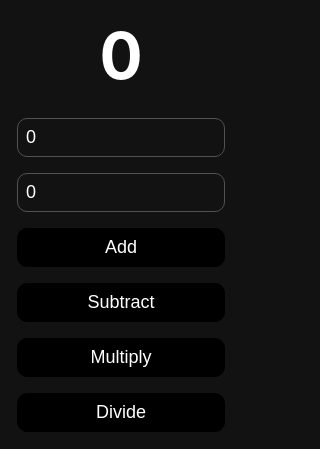
Test: Navigation › should allow inputs to calculate
Step 1. Type "1" into the number field with test id "num1" → {"x": 121, "y": 138}, box [17,118,225,157]
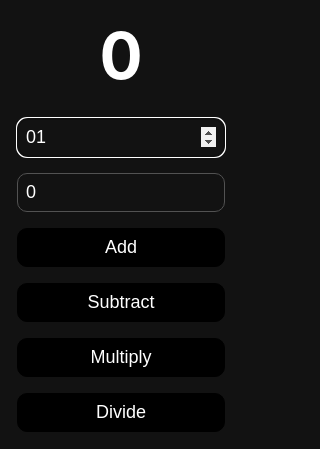
Step 2. Type "1" into the number field with test id "num2" → {"x": 121, "y": 193}, box [17,173,225,212]
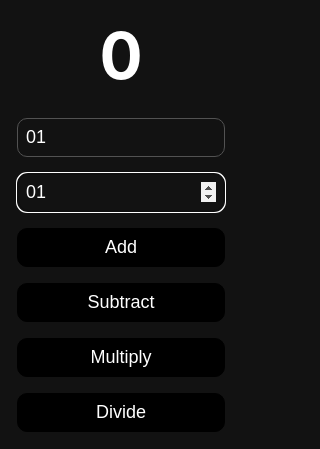
Step 3. Click the button with test id "add" → {"x": 121, "y": 248}, box [17,228,225,267]
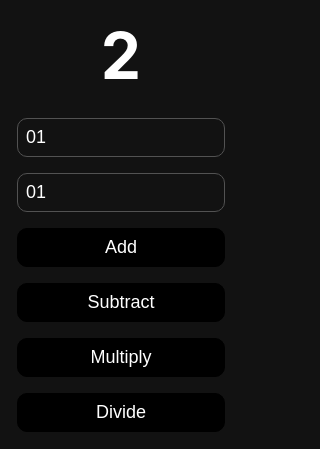
Now the text "2" is shown, box [101,16,141,94]
